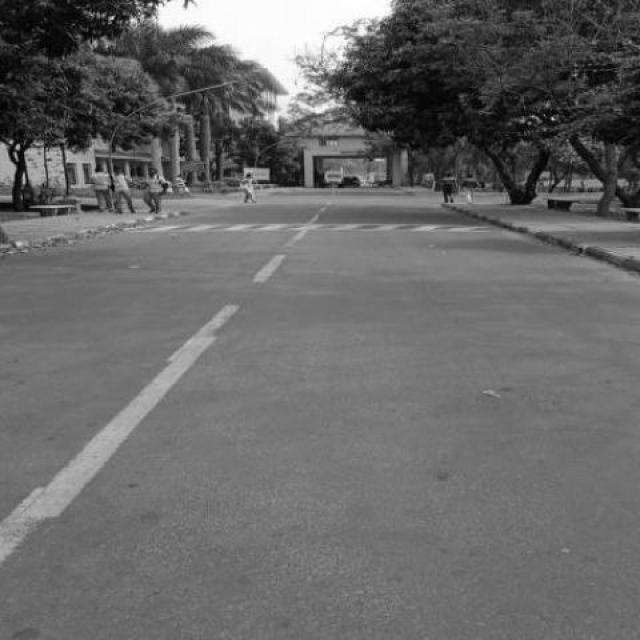Speed Bump: (121, 222, 504, 233)
